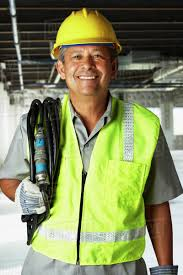Person_wearing_helmet: (44, 4, 123, 66)
